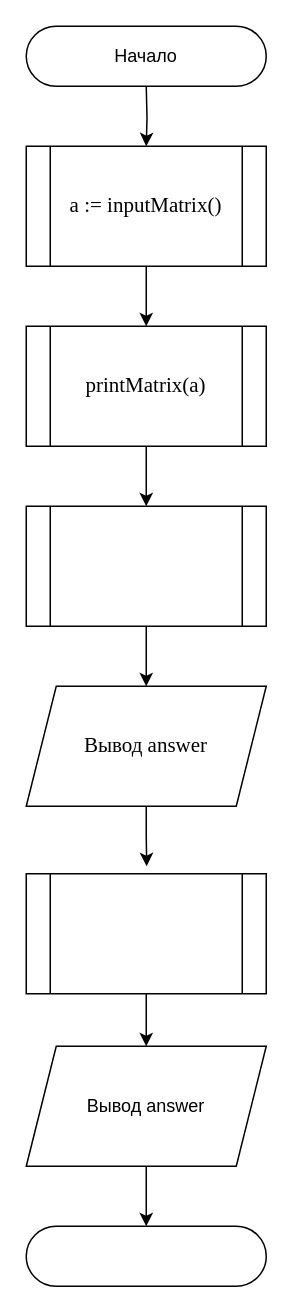
Image size: 293x1313. Some labels were removed from this diagram. The centre of each missing label's shape, as x and y in pixels:
"answer := minSumDiagElem(a)" belongs at (x=145, y=933).
"answer := sumElem(a)" belongs at (x=145, y=565).
"Конец" belongs at (x=145, y=1255).
